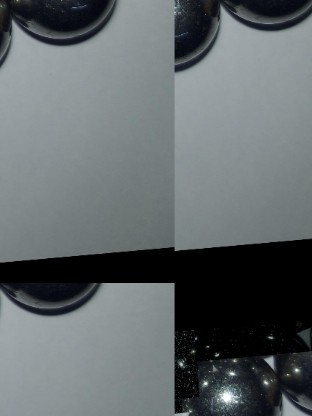ironball: (174, 350, 279, 415), (11, 0, 116, 48), (193, 322, 311, 362), (275, 317, 311, 415), (175, 0, 224, 66), (1, 285, 102, 314), (224, 0, 310, 33), (174, 330, 197, 400)
